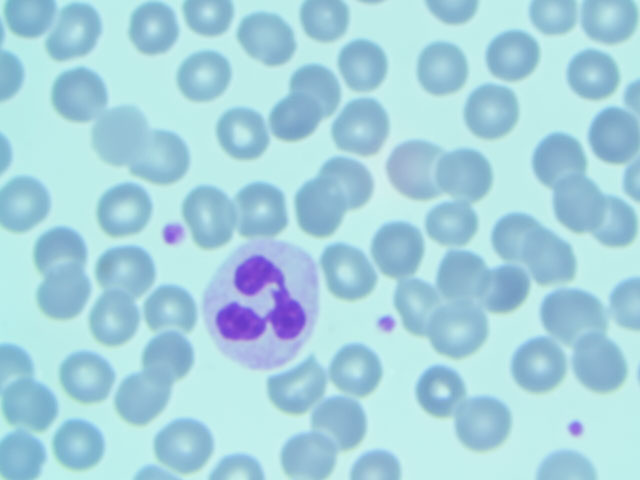Platelets: (158, 217, 186, 247), (374, 309, 398, 336), (565, 415, 589, 441)
RBC: (47, 4, 109, 62), (47, 65, 109, 123), (90, 107, 152, 165), (135, 129, 197, 187), (90, 181, 152, 239), (26, 214, 88, 272), (1, 173, 63, 231), (33, 267, 95, 325), (91, 238, 153, 296), (83, 284, 145, 342), (137, 278, 199, 336), (137, 318, 199, 376), (111, 360, 173, 418), (56, 346, 118, 404), (5, 373, 67, 431), (1, 422, 63, 480), (50, 415, 112, 473), (154, 413, 216, 471), (278, 422, 340, 480), (311, 394, 373, 452), (267, 357, 329, 415), (318, 341, 380, 399), (320, 248, 382, 306), (283, 183, 345, 241), (317, 159, 379, 217), (239, 180, 301, 238), (186, 187, 248, 245), (211, 102, 273, 160), (171, 50, 233, 108), (235, 9, 297, 67), (329, 36, 391, 94), (296, 50, 358, 108), (266, 88, 328, 146), (332, 97, 394, 155), (383, 137, 445, 195), (428, 149, 490, 207), (424, 195, 486, 253), (369, 221, 431, 279), (394, 275, 456, 333), (441, 246, 503, 304), (432, 303, 494, 361), (482, 262, 544, 320), (486, 206, 548, 264), (528, 234, 590, 292), (542, 286, 604, 344), (510, 341, 572, 399), (573, 337, 635, 395), (458, 395, 520, 453), (402, 364, 464, 422), (548, 178, 610, 236), (578, 195, 640, 253), (525, 126, 587, 184), (461, 81, 523, 139), (409, 44, 471, 102), (483, 27, 545, 85), (560, 47, 622, 105), (578, 1, 640, 59), (578, 105, 640, 163), (121, 1, 183, 58), (180, 1, 242, 58), (295, 1, 357, 58), (525, 1, 587, 58), (342, 442, 400, 480), (538, 442, 596, 480), (206, 442, 264, 480), (1, 1, 58, 37)
WBC: (206, 242, 320, 362)
